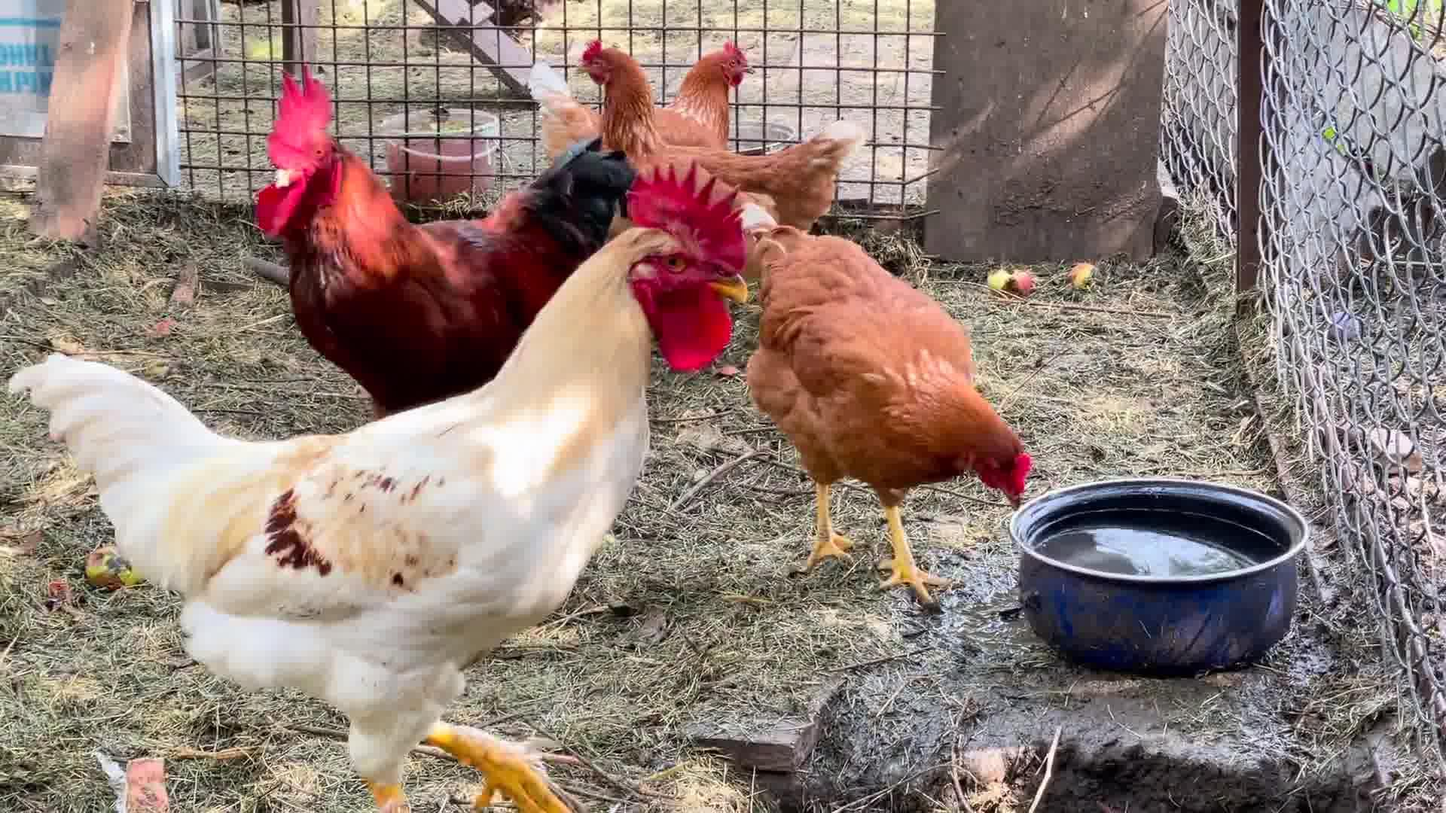Normal: (27, 166, 754, 801), (241, 68, 632, 402), (755, 232, 1028, 612), (567, 36, 838, 230), (529, 25, 775, 152)
